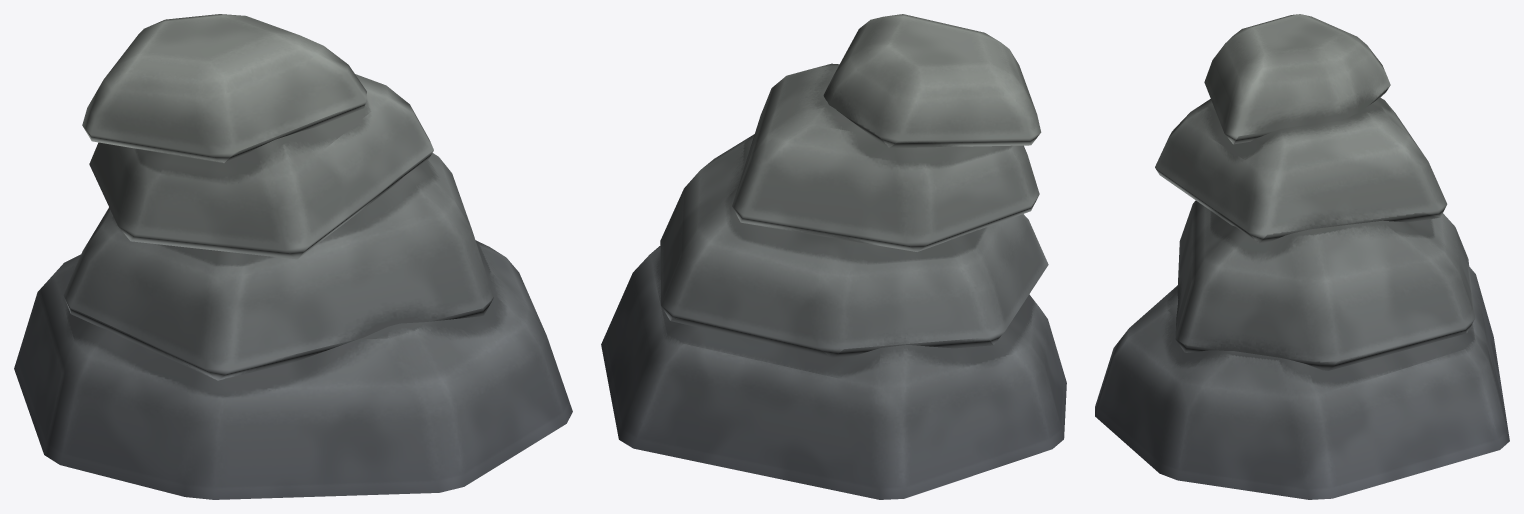
Rendered from stack_1.glb.
3 renders of one model, left to right at view 1: azimuth 30°, elevation 25°; view 2: azimuth 150°, elevation 25°; view 3: azimuth 270°, elevation 25°, orthographic. The views are drawn at different scales.
Visible parts, largest first — view 1: stack_1; view 2: stack_1; view 3: stack_1.
Boxes of the visible parts, left/top/right/bottom form: stack_1: left=14, top=14, right=572, bottom=499; stack_1: left=601, top=14, right=1066, bottom=499; stack_1: left=1095, top=14, right=1509, bottom=499.
Bounding box in the file's own units: 0.9 × 0.7 × 0.8.
Materials: 1 (1 with a texture image).
